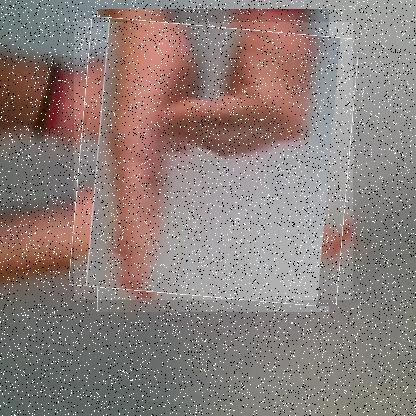Z: (74, 22, 354, 301)
